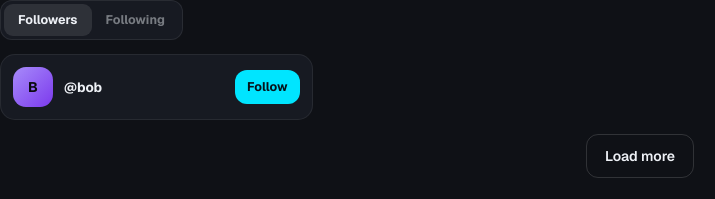
Test case: PeopleTab › shows "Load more" and appends a page when clicked
Check: the link "B @bob" is shown, box [13,67,102,107]
Check: the link "me" is not shown
Click the button "Load more" at (640, 156), box [586,134,694,178]
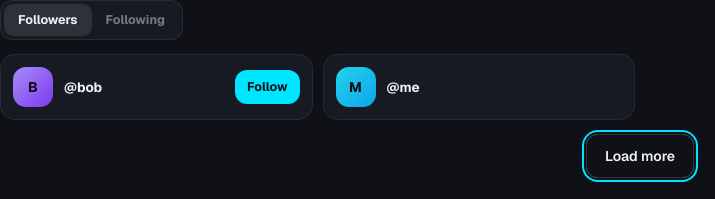
Check: the link "M @me" is shown, box [336,67,420,107]
